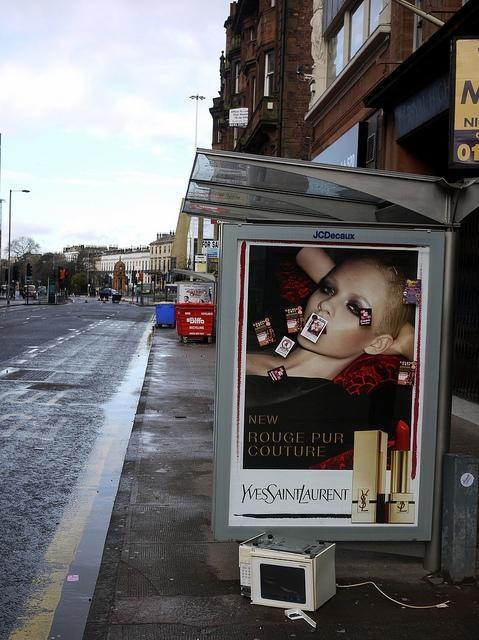car: (21, 284, 37, 298), (102, 288, 118, 294), (38, 286, 46, 296)
